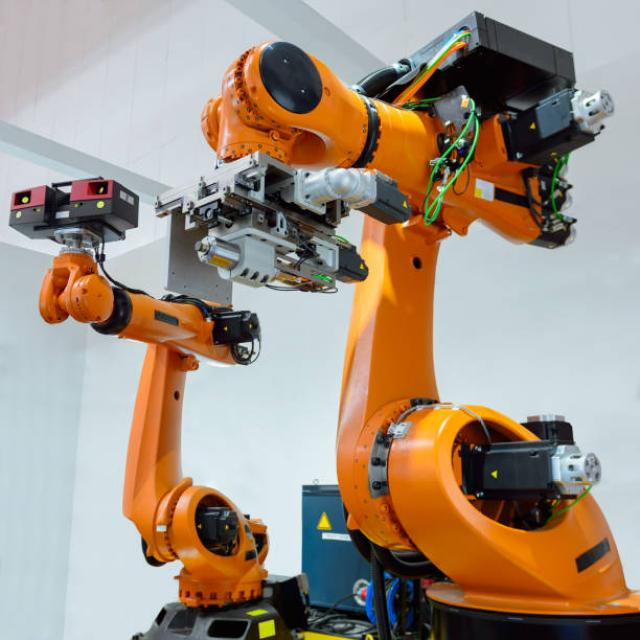Robotic-arm: (212, 11, 640, 640), (15, 168, 260, 600)
